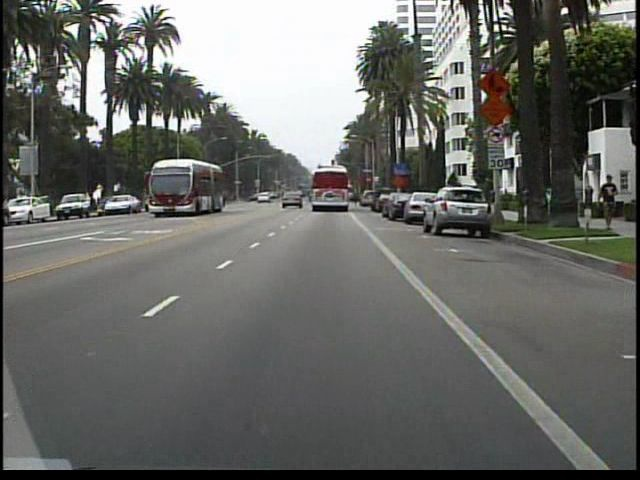person: (596, 170, 620, 233)
